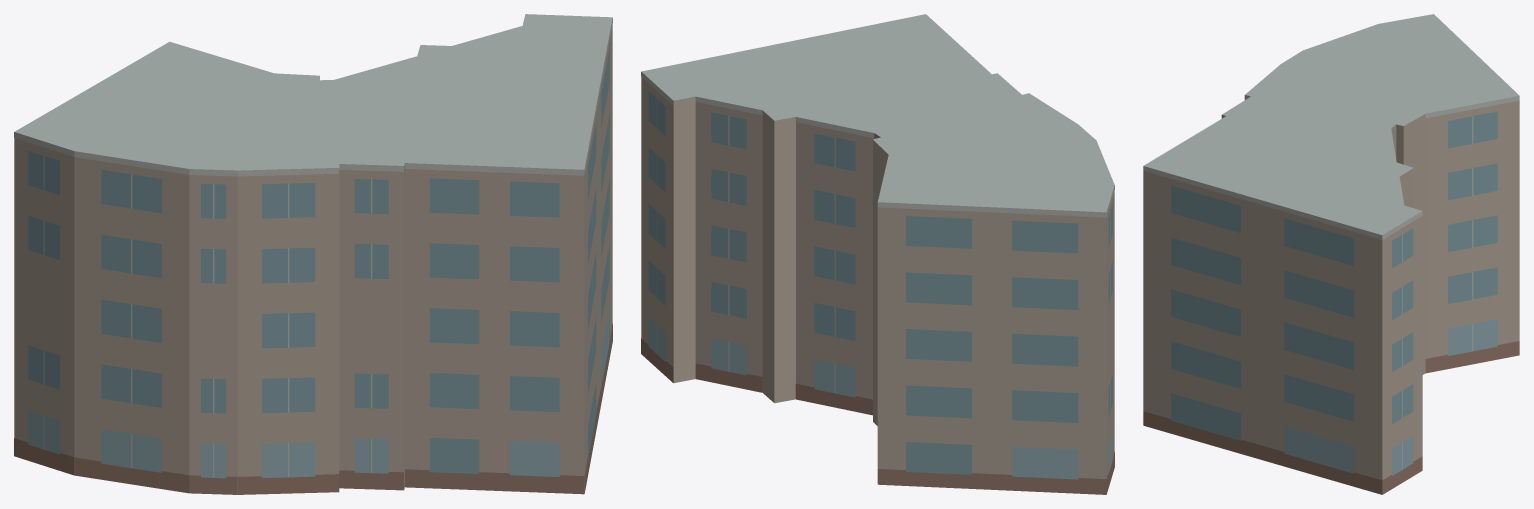
The model's file is survey-upis-32783460.glb.
3 views of the same model, side by side, from view 1: azimuth 30°, elevation 25°; view 2: azimuth 150°, elevation 25°; view 3: azimuth 270°, elevation 25° (orthographic). The views are drawn at different scales.
Visible parts, largest first — view 1: survey-upis-32783460.tmp; view 2: survey-upis-32783460.tmp; view 3: survey-upis-32783460.tmp.
Boxes of the visible parts, x1,y1,x2,y2 form: survey-upis-32783460.tmp: [14, 14, 612, 494]; survey-upis-32783460.tmp: [641, 14, 1114, 494]; survey-upis-32783460.tmp: [1143, 14, 1519, 494].
Bounding box in the file's own units: 24.31 × 13.3 × 17.48.
